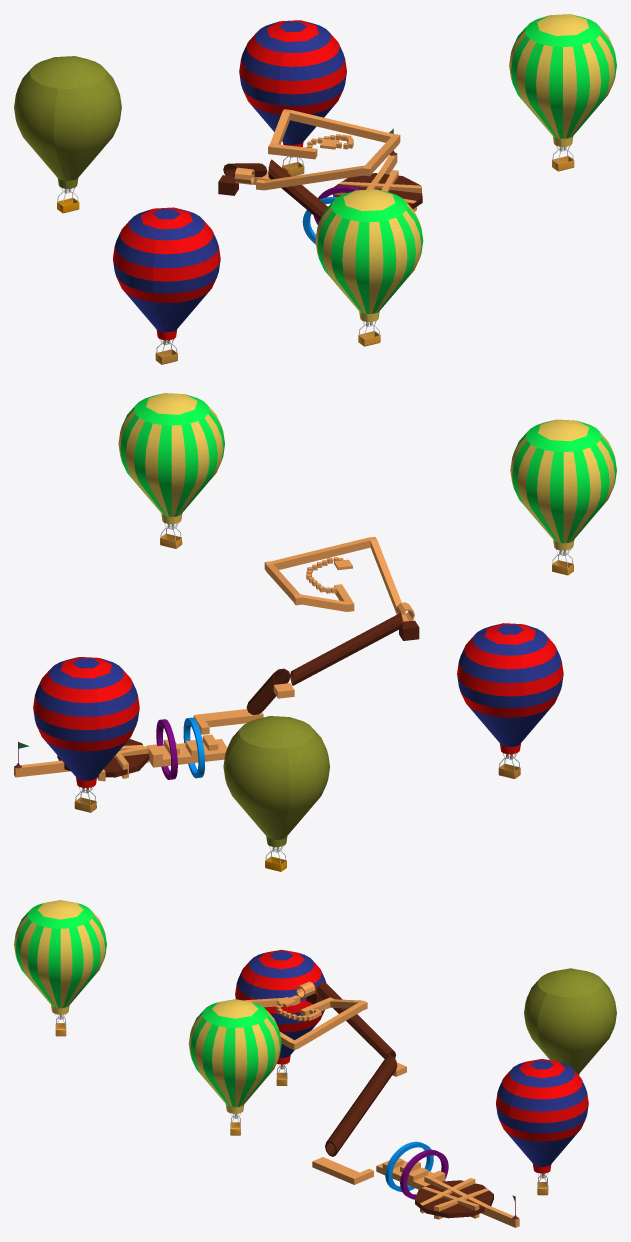
Rendered from LEVEL 25.fbx.
The picture shows the model from 3 angles, top to bottom: view 1: azimuth 30°, elevation 25°; view 2: azimuth 150°, elevation 25°; view 3: azimuth 270°, elevation 25°; orthographic projection. The views are drawn at different scales.
Visible parts, largest first — view 1: ballon__3_, ballon__1_, ballon__2_, ballon, ballon_4, polySurface1, polySurface7, polySurface4; view 2: ballon__2_, ballon, ballon__1_, ballon__3_, ballon_4, polySurface1, polySurface6, polySurface31, polySurface14, polySurface7, polySurface3, polySurface4 (+2 smaller); view 3: ballon, ballon_4, ballon__1_, ballon__3_, ballon__2_, polySurface7, polySurface1, polySurface4, polySurface6, polySurface31, polySurface14, polySurface3 (+2 smaller).
Boxes of the visible parts, x1,y1,x2,y2 form: ballon__3_: (14, 56, 121, 213); ballon__1_: (509, 14, 616, 171); ballon__2_: (113, 207, 220, 364); ballon: (315, 189, 423, 346); ballon_4: (239, 20, 346, 176); polySurface1: (256, 109, 400, 190); polySurface7: (268, 159, 327, 220); polySurface4: (333, 173, 422, 208); ballon__2_: (457, 623, 563, 778); ballon: (510, 419, 616, 575); ballon__1_: (118, 393, 224, 548); ballon__3_: (223, 716, 329, 871); ballon_4: (33, 657, 139, 812); polySurface1: (264, 537, 405, 614); polySurface6: (290, 613, 402, 685); polySurface31: (147, 734, 227, 767); polySurface14: (193, 709, 263, 734); polySurface7: (246, 668, 290, 714); polySurface3: (14, 746, 148, 777); polySurface4: (57, 739, 149, 777); ballon: (14, 900, 106, 1036); ballon_4: (496, 1059, 588, 1195); ballon__1_: (188, 999, 281, 1135); ballon__3_: (524, 968, 616, 1075); ballon__2_: (235, 949, 326, 1085); polySurface7: (325, 1055, 397, 1156); polySurface1: (243, 995, 367, 1050); polySurface4: (415, 1180, 493, 1218); polySurface6: (317, 981, 395, 1058); polySurface31: (376, 1158, 445, 1189); polySurface14: (312, 1157, 373, 1184); polySurface3: (430, 1178, 519, 1227).
Size of the model in its own units: 6855 by 3897 by 8973.
Materials: 20 (9 with a texture image).
